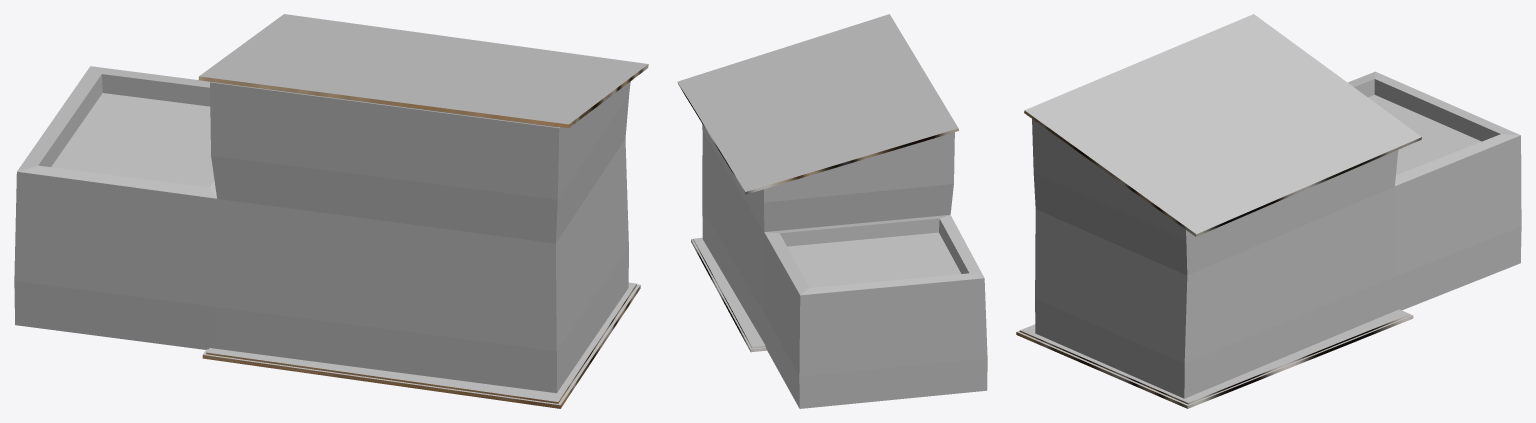
The model's file is SmallHouse3.fbx.
3 views of the same model, side by side, from view 1: azimuth 30°, elevation 25°; view 2: azimuth 150°, elevation 25°; view 3: azimuth 270°, elevation 25° (orthographic). The views are drawn at different scales.
Parts seen in each view (by area): view 1: Cube.006; view 2: Cube.006; view 3: Cube.006.
Boxes of the visible parts, x1,y1,x2,y2 form: Cube.006: (14,14,648,408); Cube.006: (677,14,987,408); Cube.006: (1016,14,1521,408).
Bounding box in the file's own units: 2484 × 1266 × 2491.
